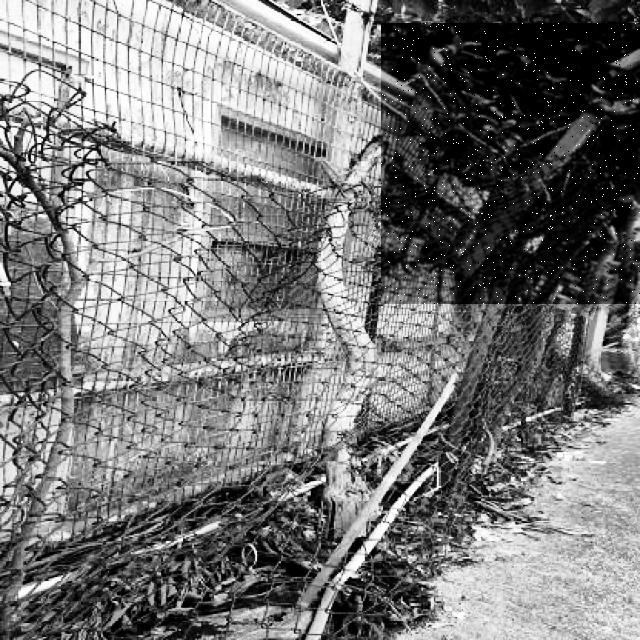anomaly-fence: (381, 23, 640, 304)
